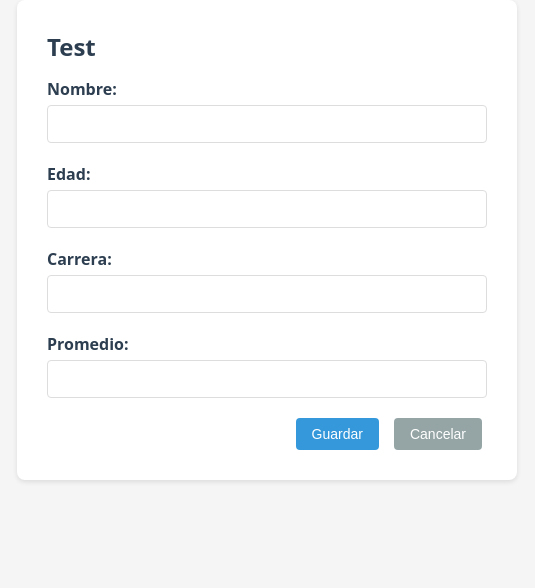
EstudianteForm › debe mostrar errores de validación cuando campos están vacíos
Step 1. Click the button "Guardar" → (337, 434), box [296,418,379,450]
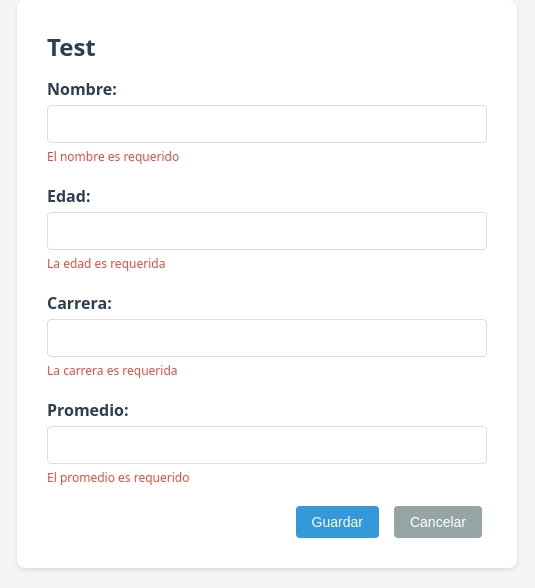
Expected: the text "El nombre es requerido" is shown, [47,148,179,165]
